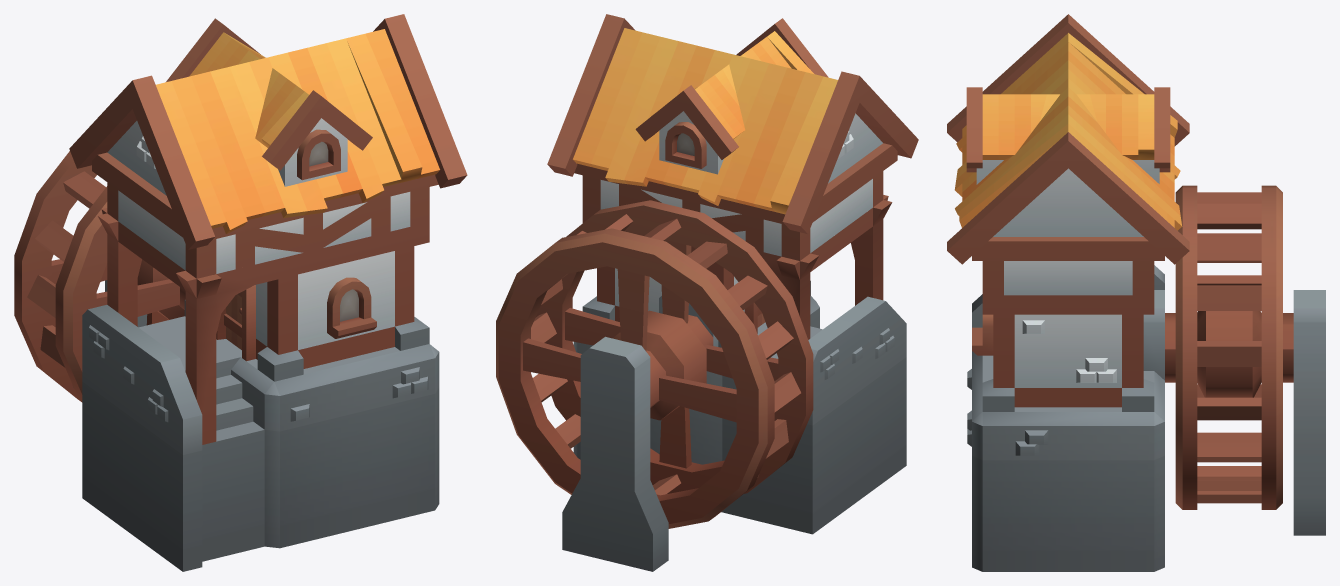
The model's file is building_watermill_yellow.gltf.
3 renders of one model, left to right at view 1: azimuth 30°, elevation 25°; view 2: azimuth 150°, elevation 25°; view 3: azimuth 270°, elevation 25°, orthographic. The views are drawn at different scales.
Visible parts, largest first — view 1: building_watermill_yellow, building_watermill_wheel_yellow; view 2: building_watermill_yellow, building_watermill_wheel_yellow; view 3: building_watermill_yellow, building_watermill_wheel_yellow.
Part boxes in pixels (bbox=[...]): building_watermill_yellow: bbox=[69, 14, 467, 571]; building_watermill_wheel_yellow: bbox=[14, 151, 185, 402]; building_watermill_yellow: bbox=[547, 14, 918, 571]; building_watermill_wheel_yellow: bbox=[496, 200, 813, 528]; building_watermill_yellow: bbox=[947, 14, 1325, 571]; building_watermill_wheel_yellow: bbox=[1165, 185, 1293, 509].
Size of the model in its own units: 1.05 by 1.57 by 1.24.
1 material, 1 textured.
